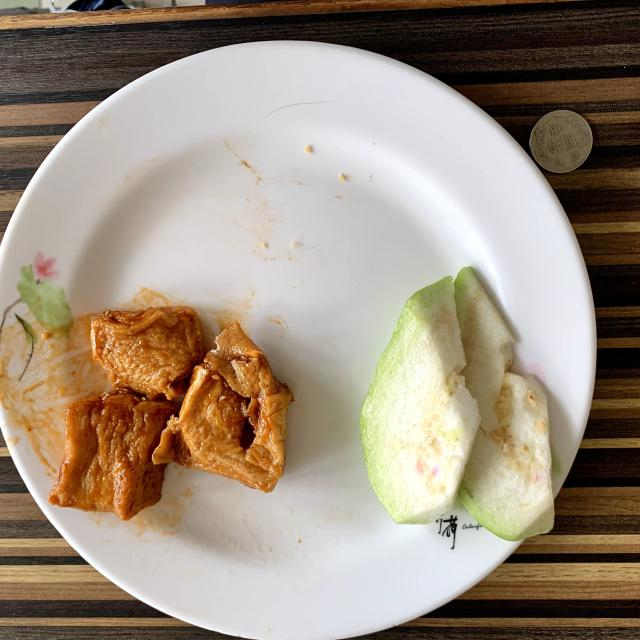coin: (530, 110, 592, 172)
creamy tofu: (49, 306, 292, 520)
guava -sliced-: (360, 268, 554, 541)
